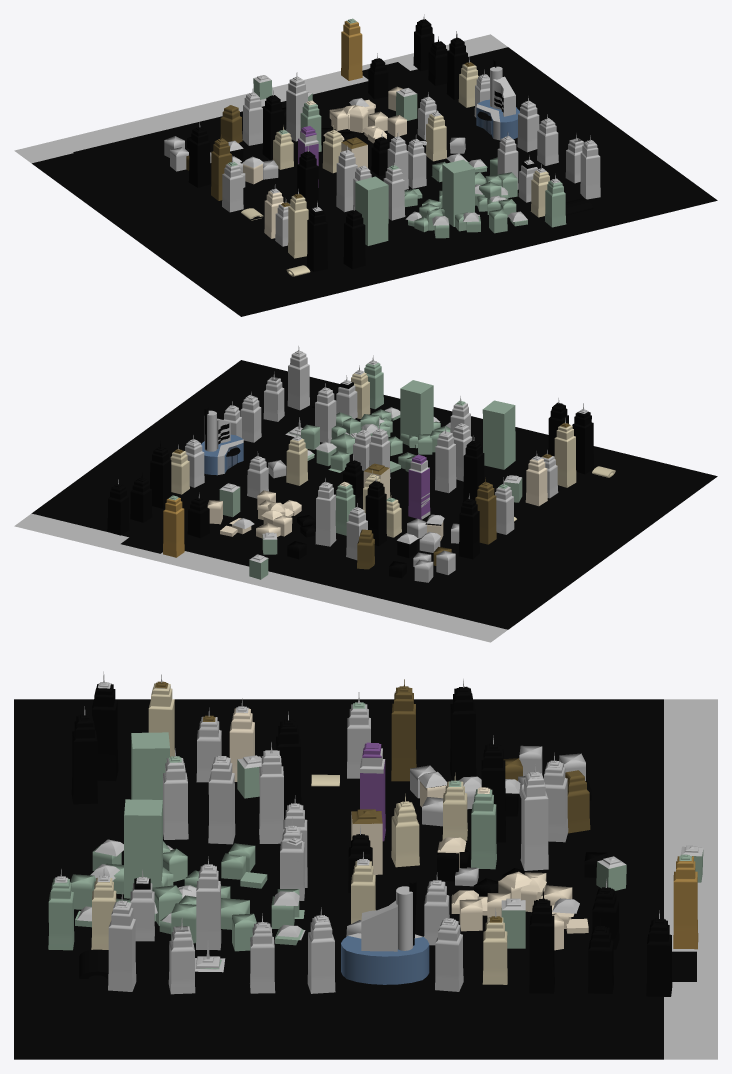
The model's file is CityQuad.fbx.
3 renders of one model, top to bottom at view 1: azimuth 30°, elevation 25°; view 2: azimuth 150°, elevation 25°; view 3: azimuth 270°, elevation 25°, orthographic. The views are drawn at different scales.
Visible parts, largest first — view 1: pPlane7; view 2: pPlane7; view 3: pPlane7.
Boxes of the visible parts, x1,y1,x2,y2 form: pPlane7: (14,14,717,316); pPlane7: (14,346,717,642); pPlane7: (14,671,717,1059).
Bounding box in the file's own units: 30.12 × 4.39 × 24.86.
